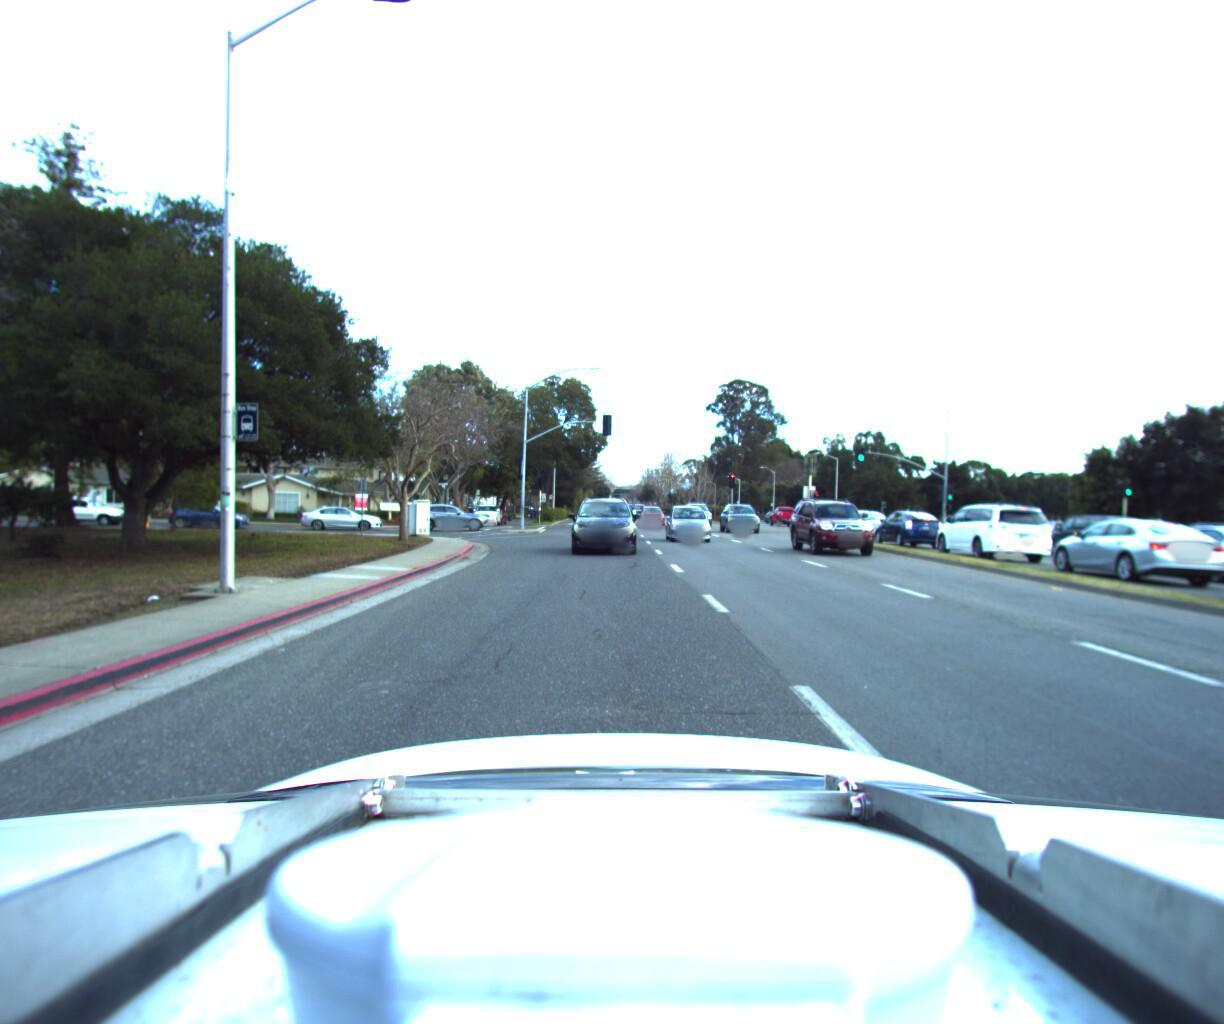car: (1035, 508, 1224, 584), (925, 495, 1061, 557), (793, 485, 902, 559), (1107, 510, 1224, 577), (1024, 505, 1129, 553), (568, 488, 637, 552), (1133, 513, 1224, 560), (30, 492, 132, 522), (869, 502, 945, 541), (160, 497, 253, 525), (295, 499, 385, 527), (657, 496, 715, 539), (411, 497, 490, 527), (1213, 491, 1224, 652), (720, 499, 767, 533), (470, 496, 500, 521), (636, 494, 665, 520), (764, 499, 797, 520)
